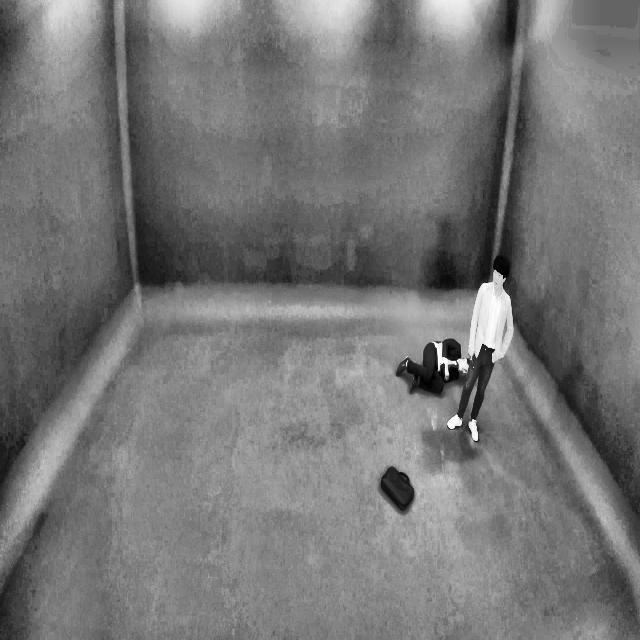assult: (396, 248, 513, 447), (396, 332, 472, 392)
